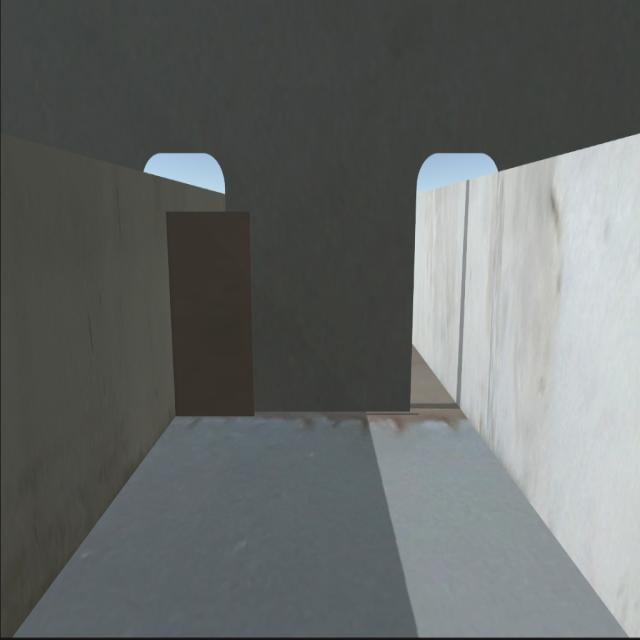fillet_yong_jeop_jang: (173, 404, 410, 422)
longi_yong_jeop_jang: (160, 213, 182, 412)
plate_CP01: (166, 212, 255, 418)
